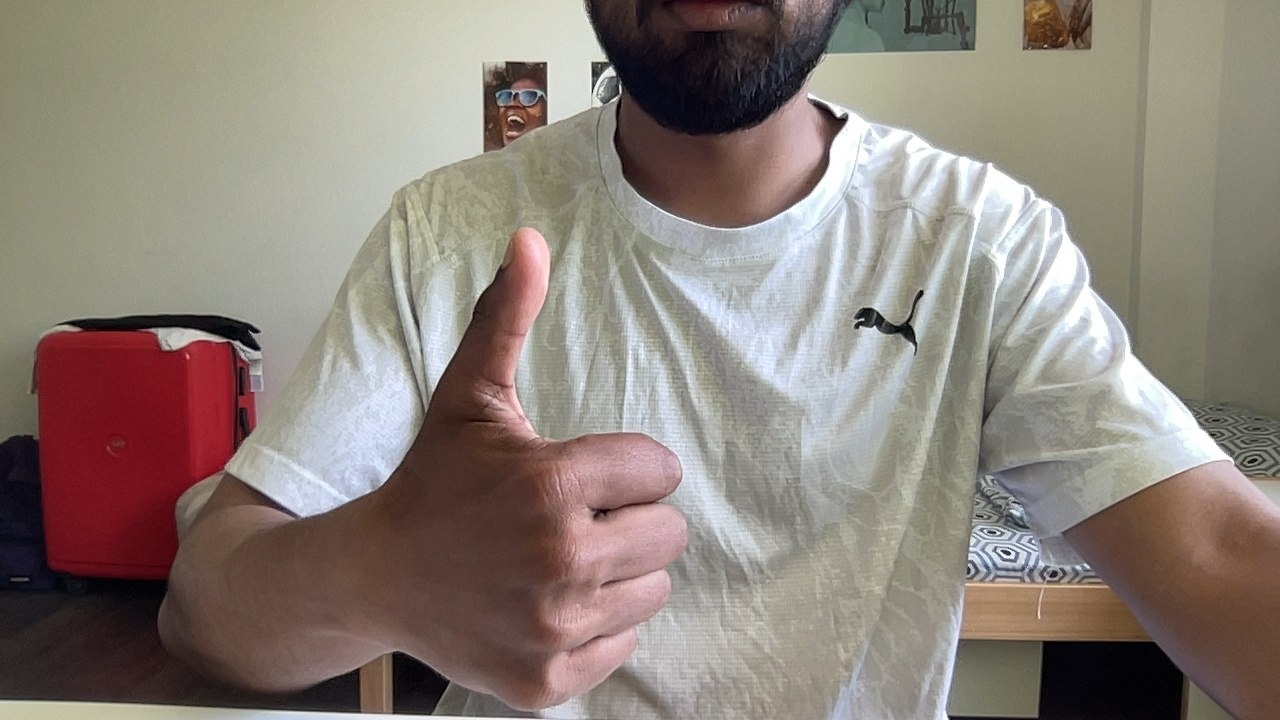ThumbsUp: (405, 225, 690, 711)
